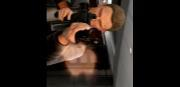gun: (54, 0, 97, 38)
